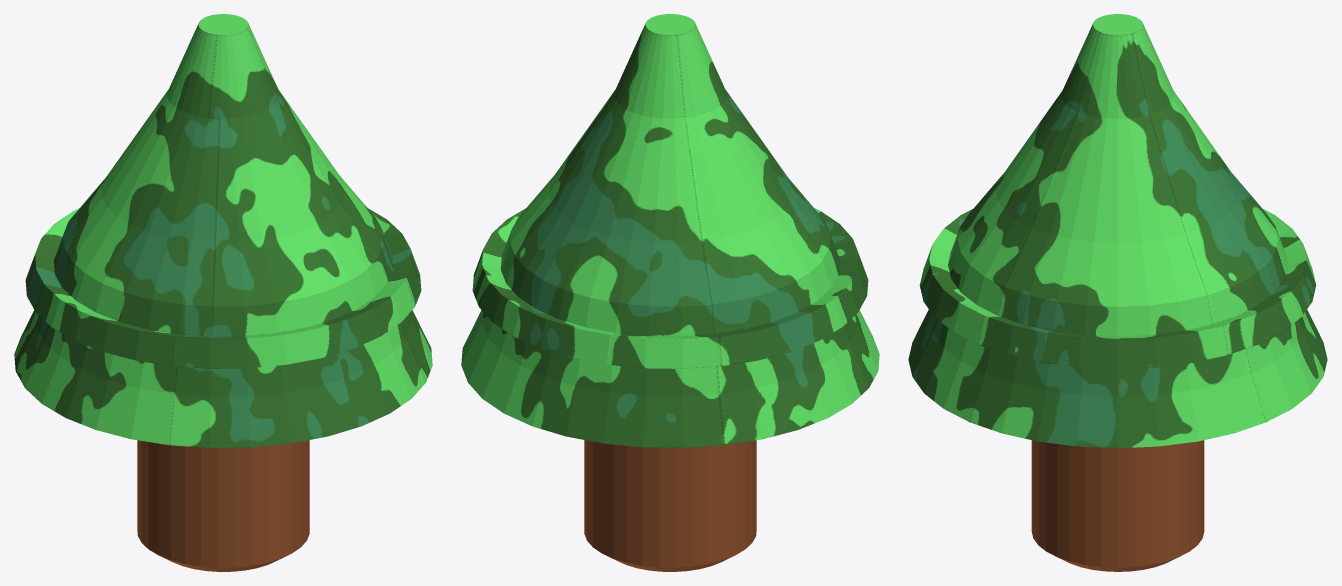
Rendered from tree.glb.
3 renders of one model, left to right at view 1: azimuth 30°, elevation 25°; view 2: azimuth 150°, elevation 25°; view 3: azimuth 270°, elevation 25°, orthographic.
Visible parts, largest first — view 1: Cylinder; view 2: Cylinder; view 3: Cylinder.
Part boxes in pixels (bbox=[...]): Cylinder: bbox=[14, 14, 432, 571]; Cylinder: bbox=[461, 14, 879, 571]; Cylinder: bbox=[908, 14, 1327, 571].
Size of the model in its own units: 4.85 by 6.63 by 4.85.
2 materials, 1 textured.
